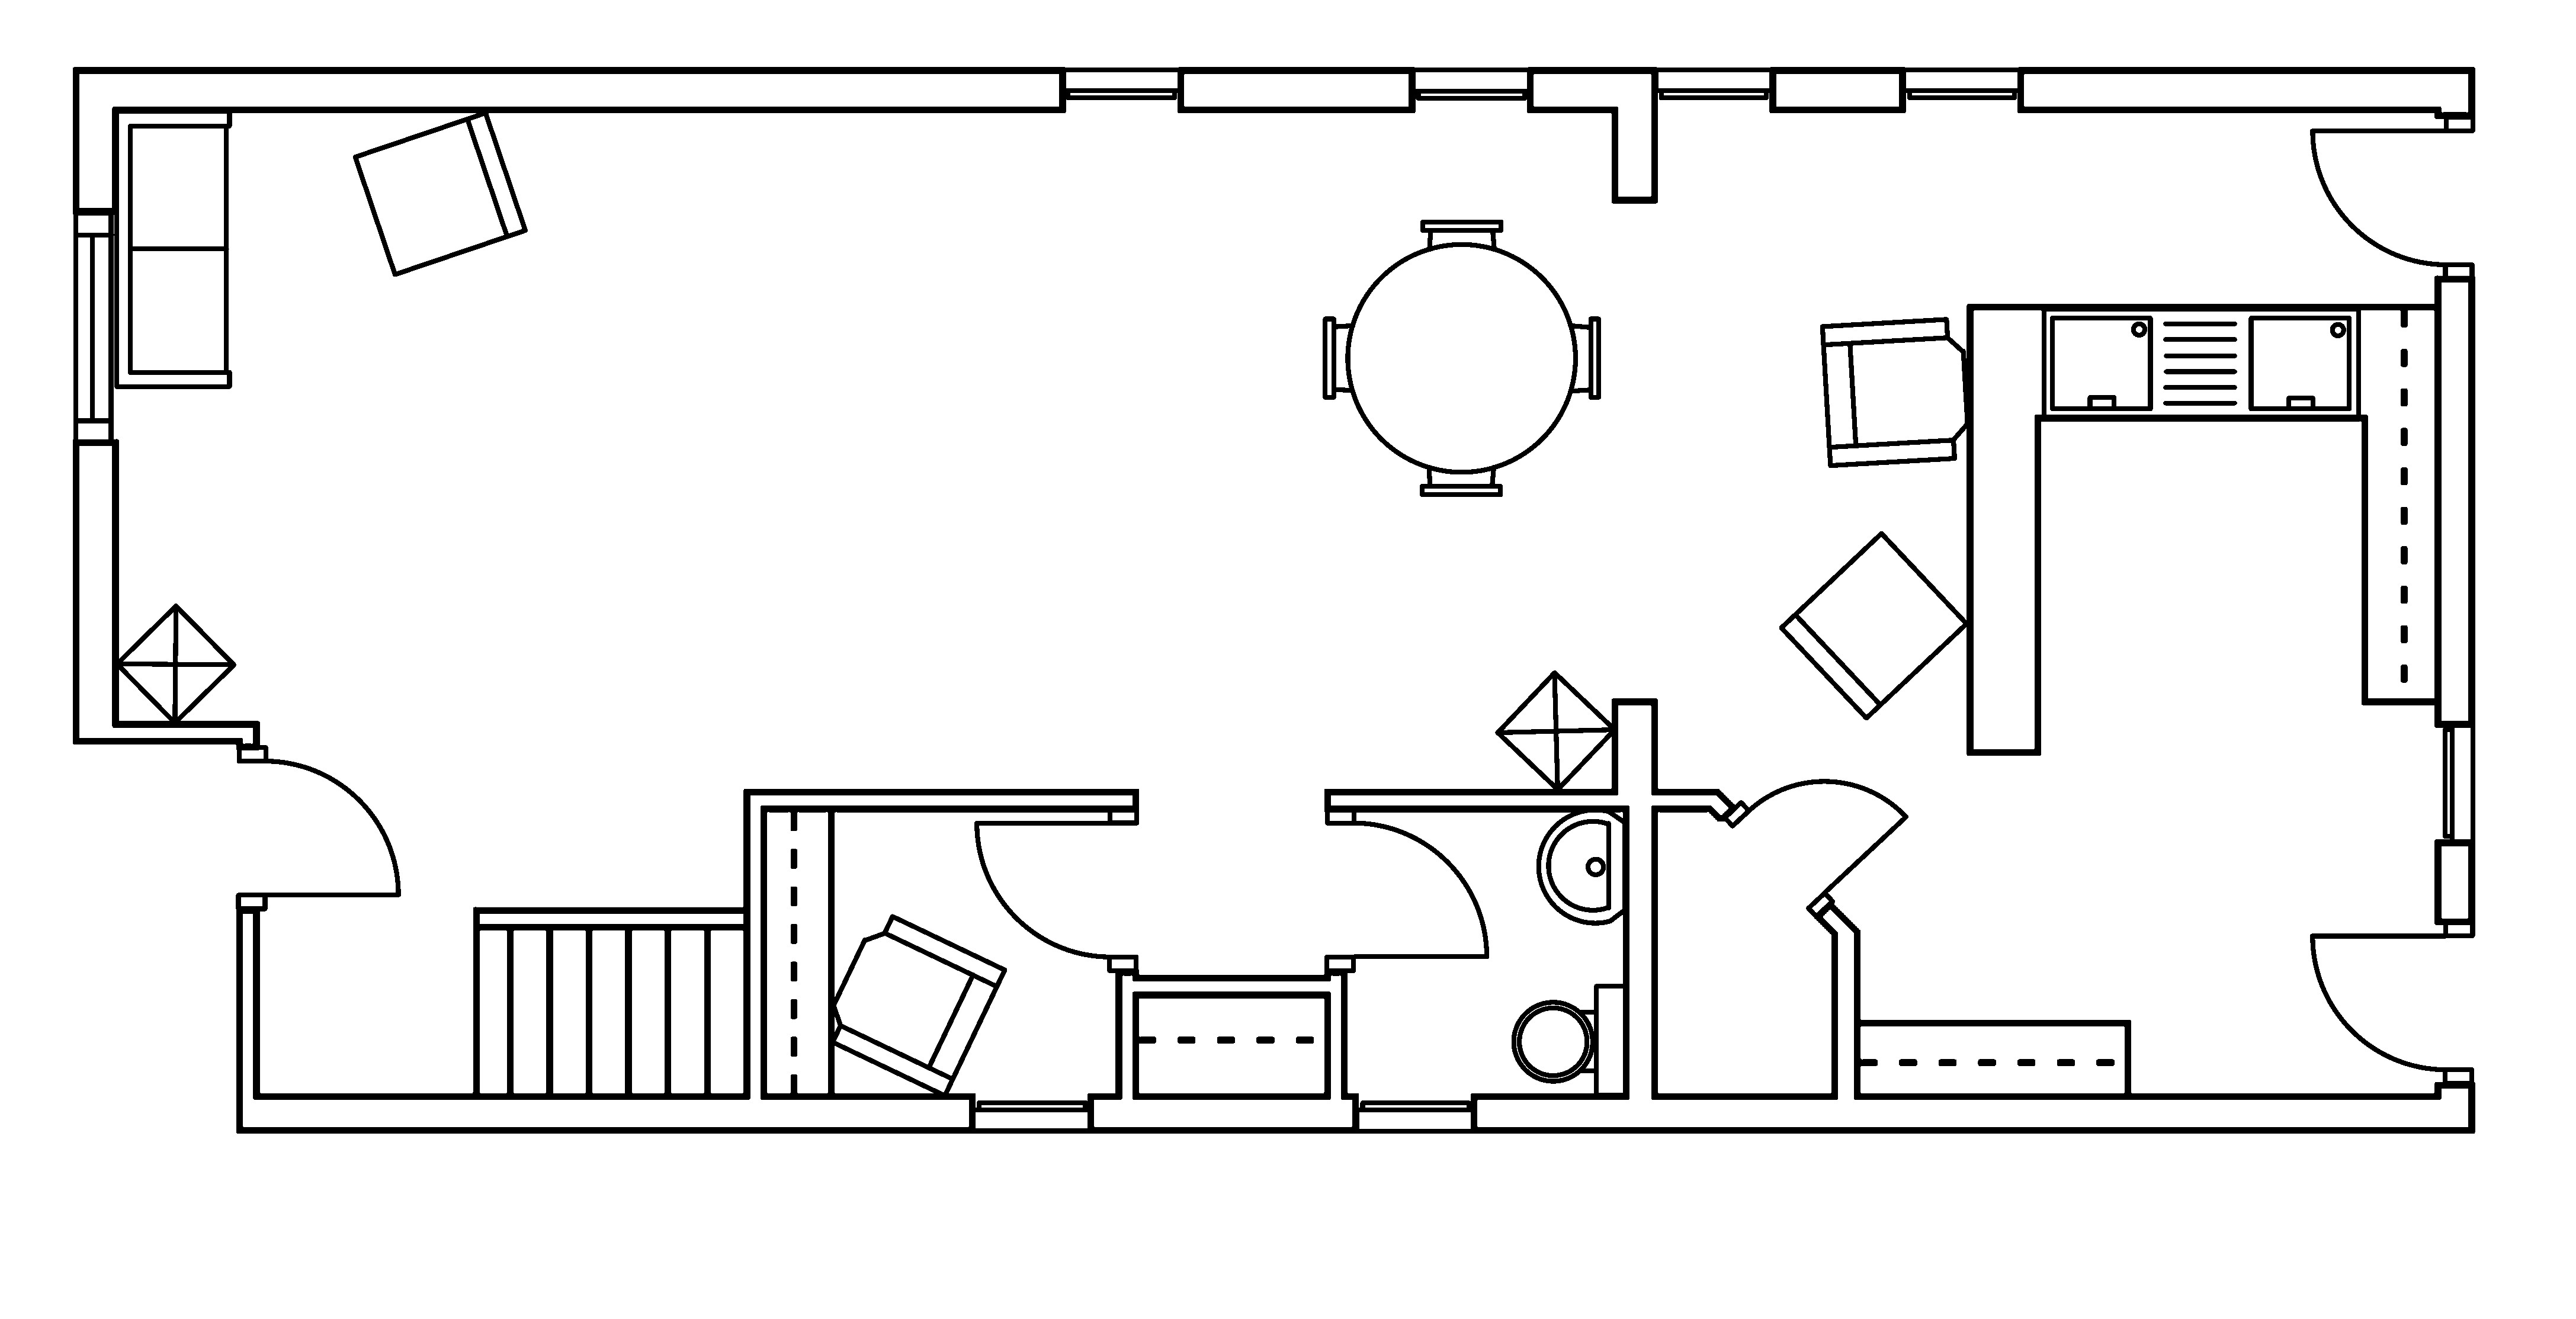armchair: (829, 912, 1007, 1099), (1819, 316, 1971, 468)
coffee_table: (1493, 670, 1618, 792), (113, 602, 237, 725)
large_sink: (1512, 983, 1628, 1097)
large_sofa: (113, 108, 232, 389)
round_table: (1322, 219, 1601, 496)
small_sink: (1535, 808, 1628, 925)
small_sofa: (1777, 530, 1969, 720), (351, 109, 528, 278)
twin_sink: (2040, 305, 2361, 421)
